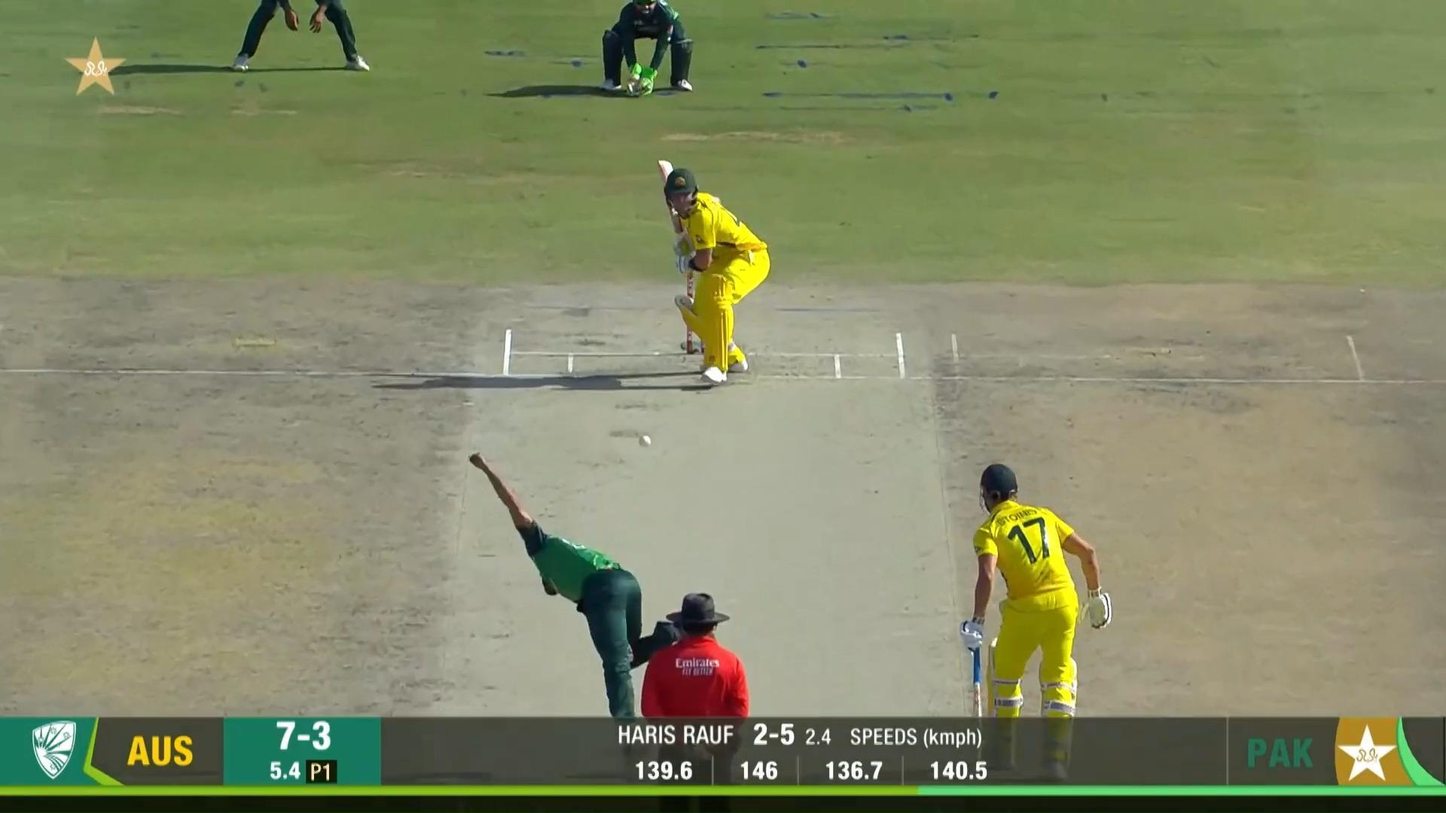BM 1: (658, 159, 772, 384)
BO: (466, 449, 695, 787)
